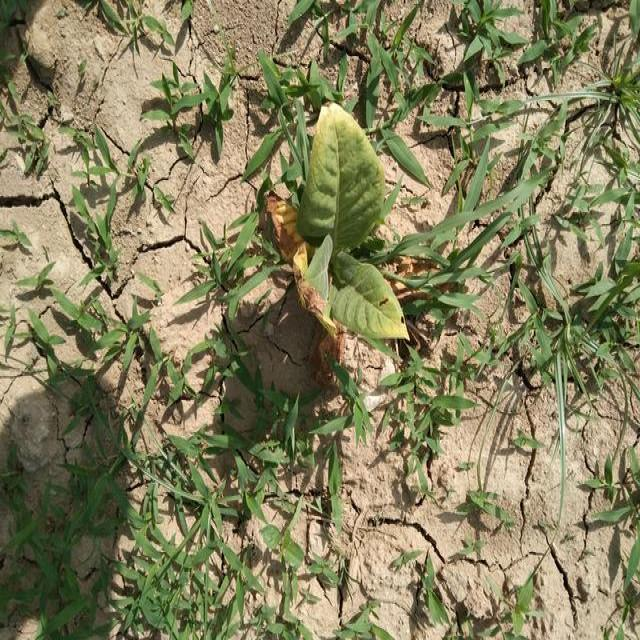crop: (286, 82, 419, 360)
